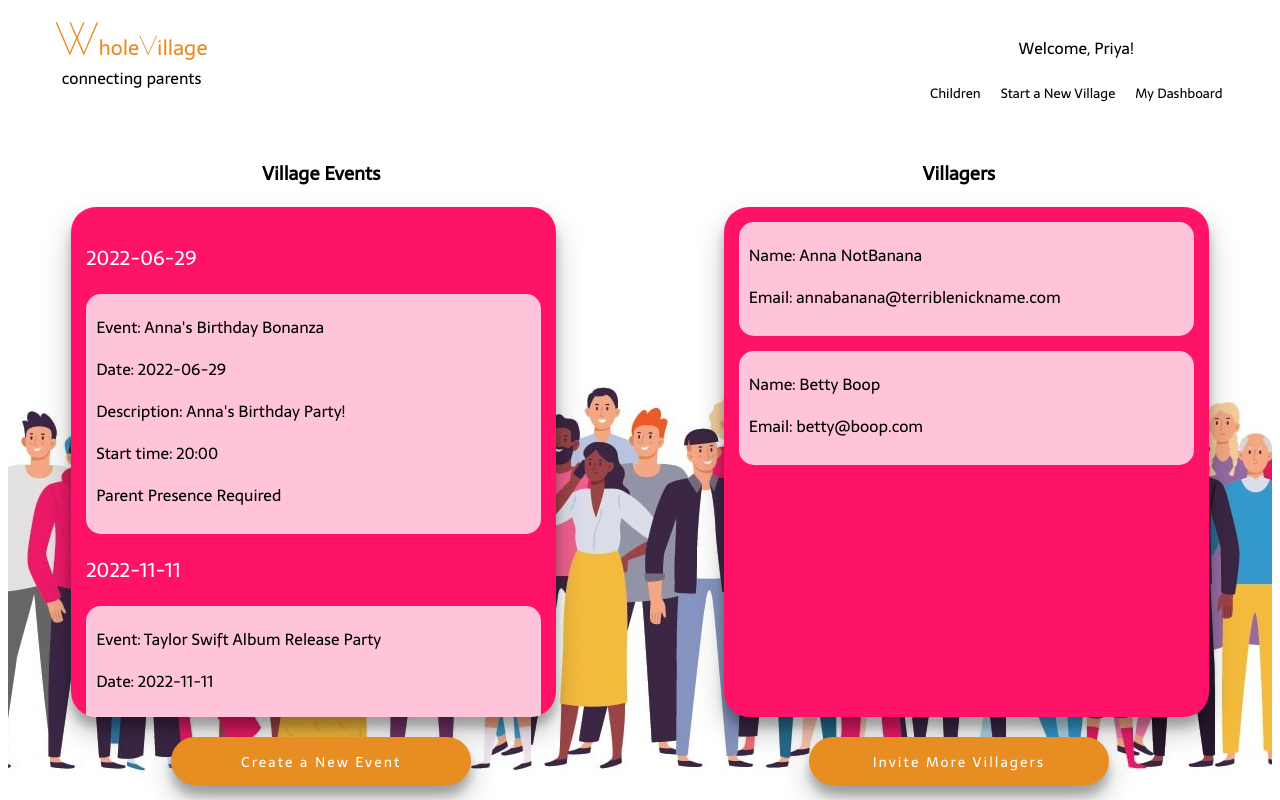
Scenario: Village Home User Flows › Should see an error and not be able to submit the form unless all required fields are filled out
Click the button with class "create-event" at (321, 761), box [171,737,471,785]
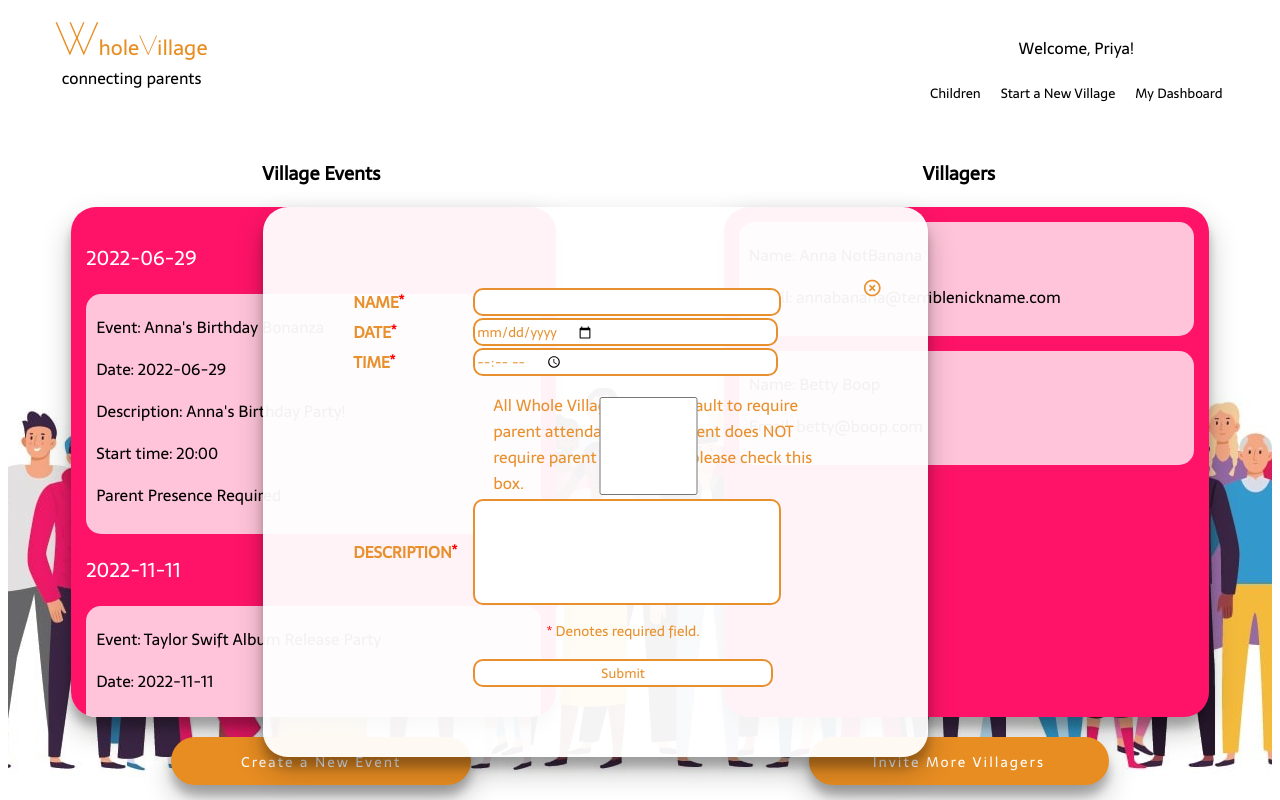
Type "Roller Derby Night" into the field with class "name-input" at (627, 302), box [473,288,781,316]
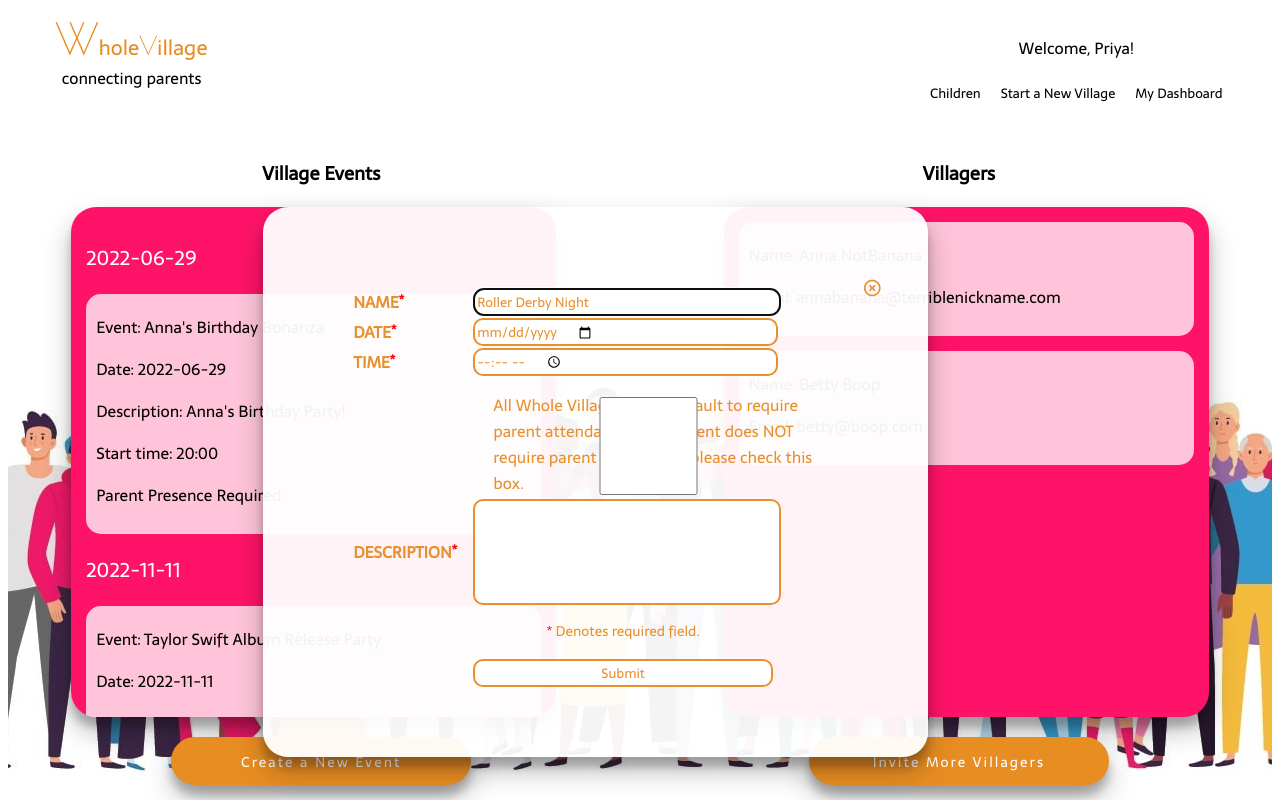
Type "2022-05-05" into the date field with class "date-input" at (626, 332), box [473,318,778,346]
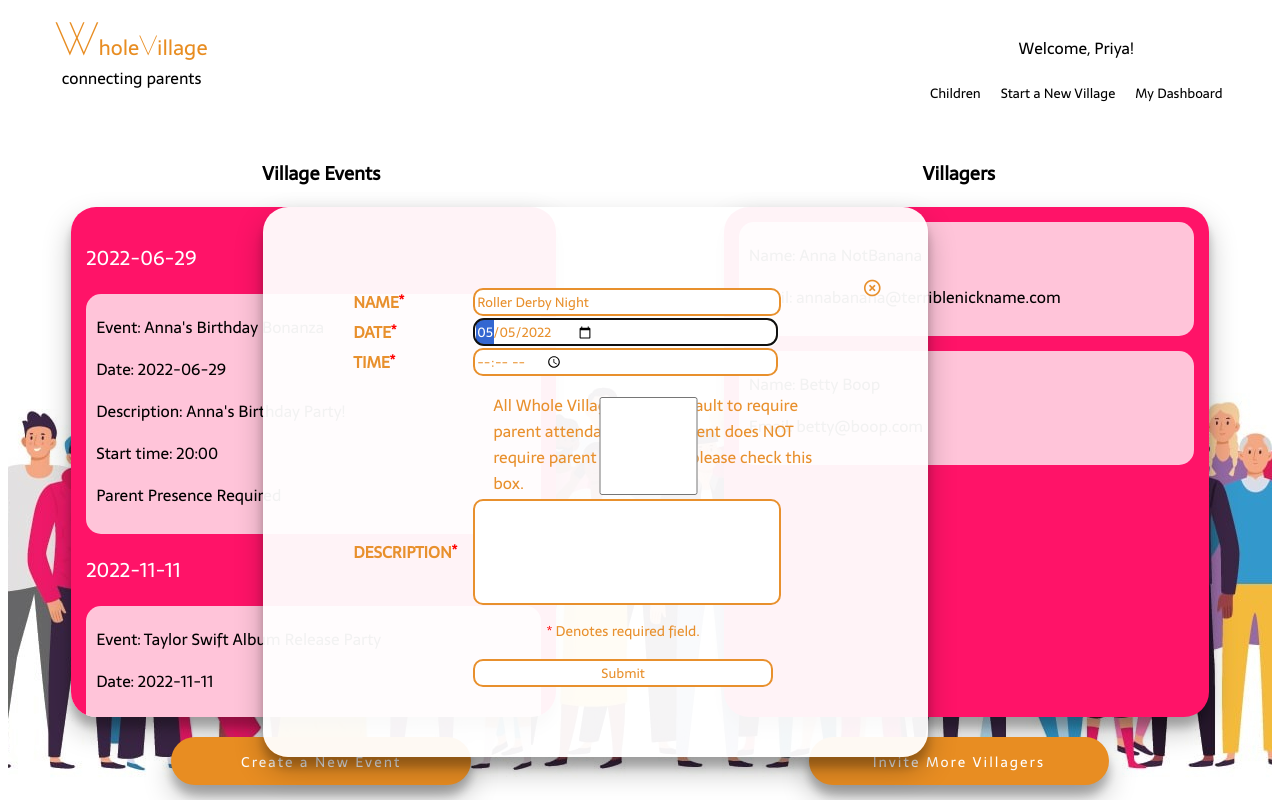
Type "11:11" into the time field with class "time-input" at (626, 362), box [473,348,778,376]
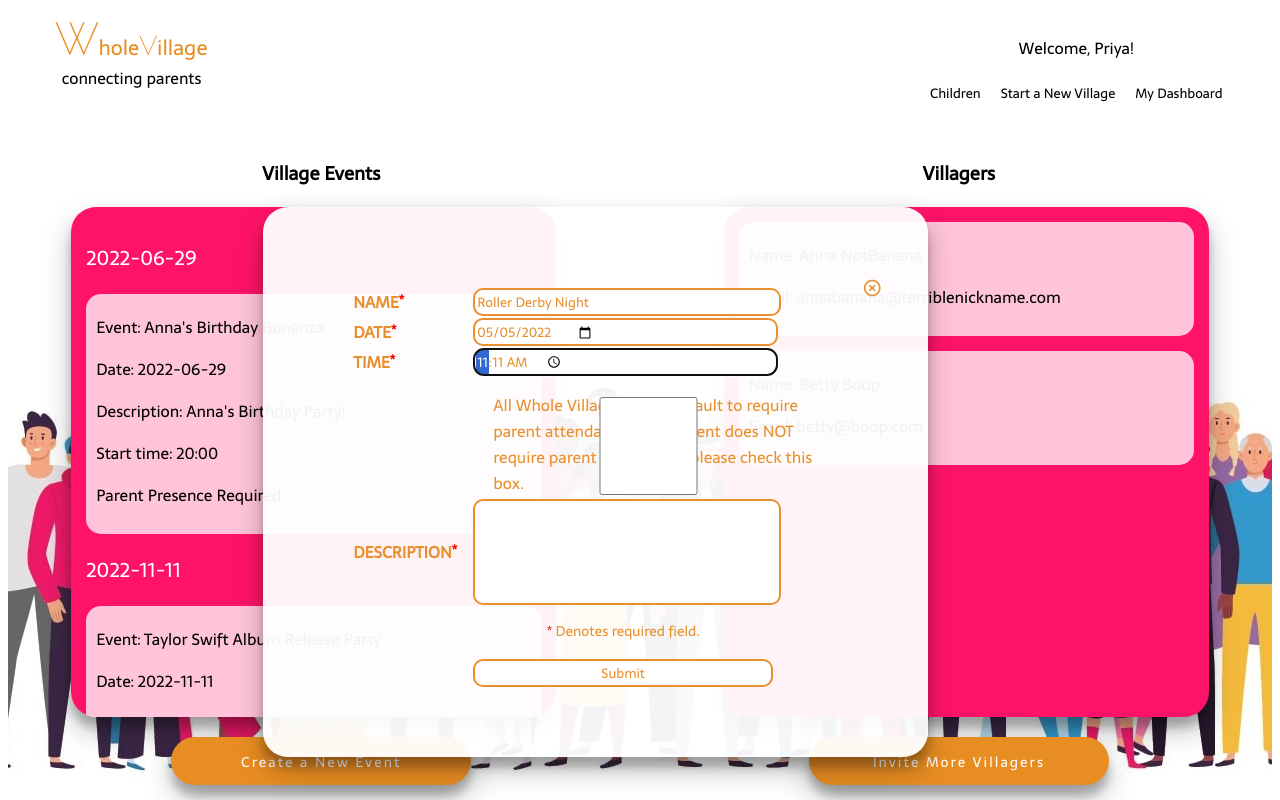
Click the checkbox with class "yes-input" at (649, 446), box [477,397,820,495]
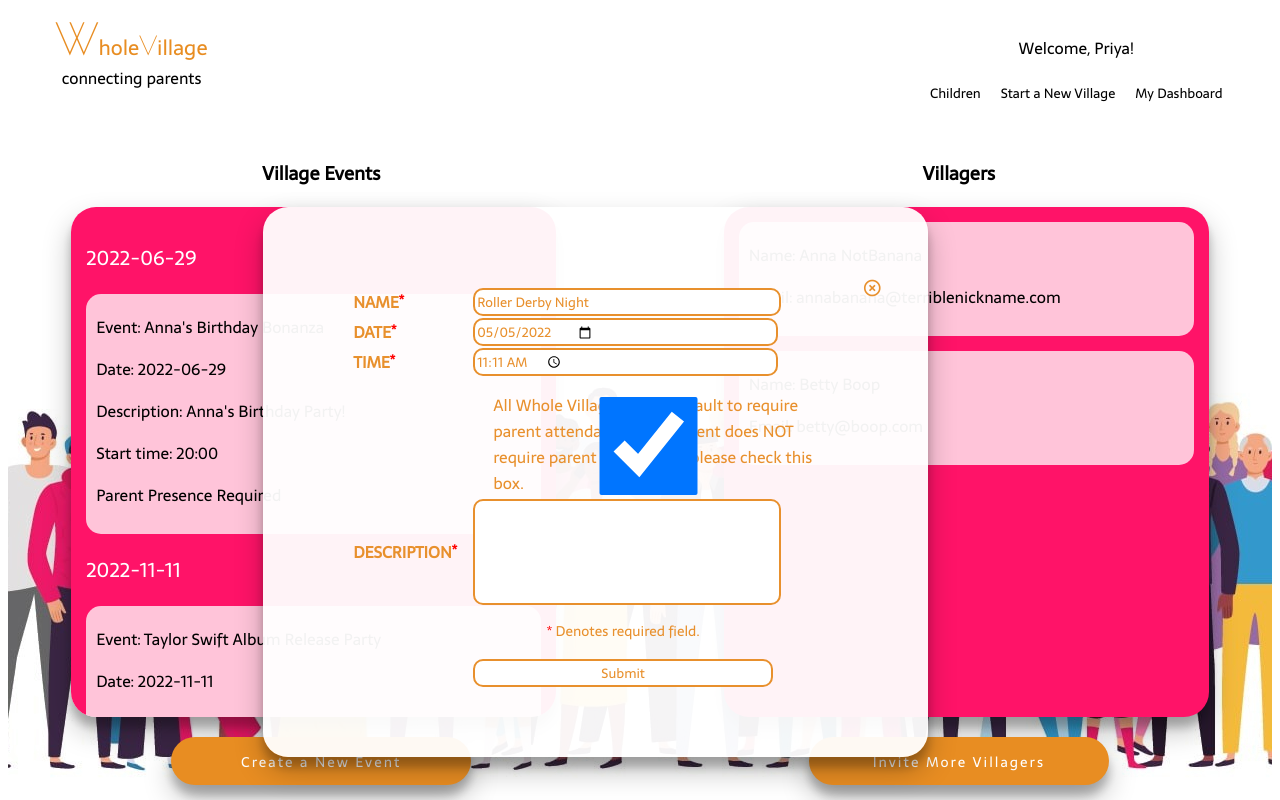
Click the button with class "submit-btn" at (623, 673), box [473,659,773,687]
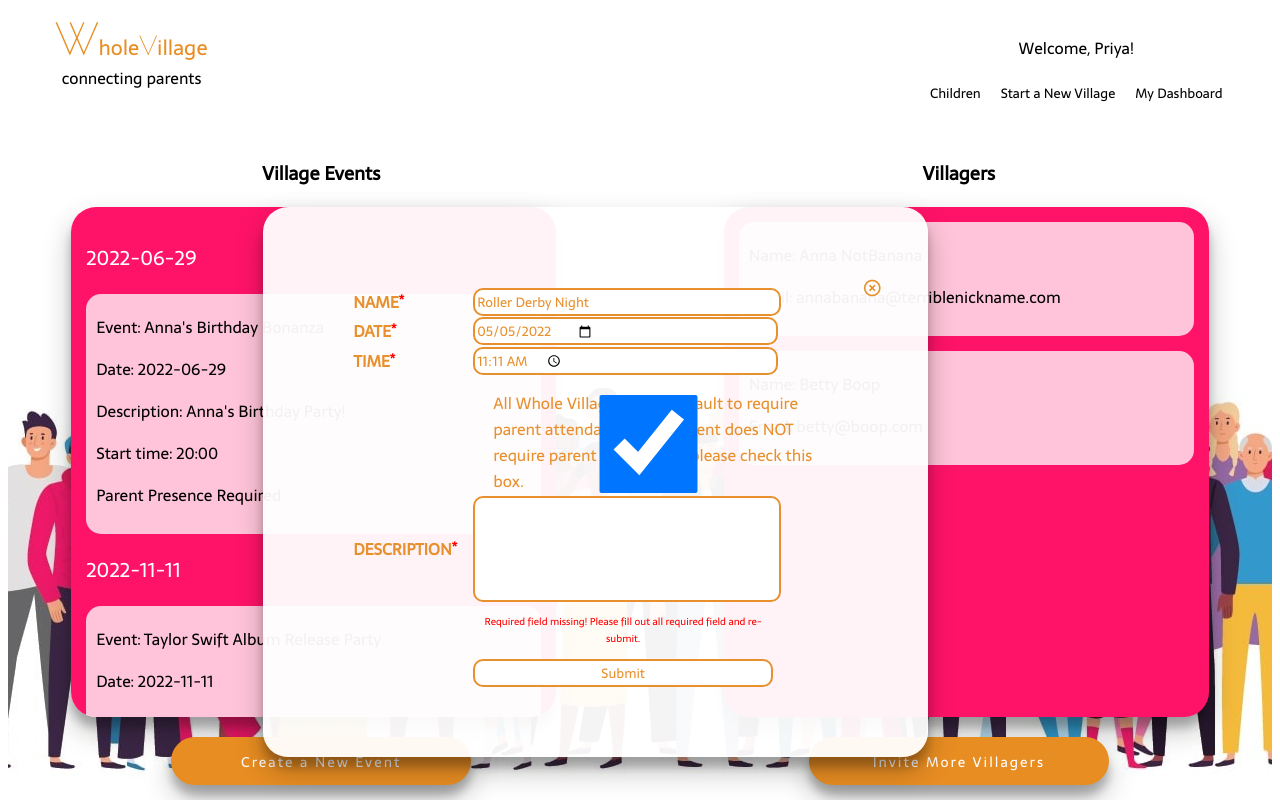
Expected: the text "Required field missing! Please fill out all required field and re-submit." is shown, [473,613,773,648]
